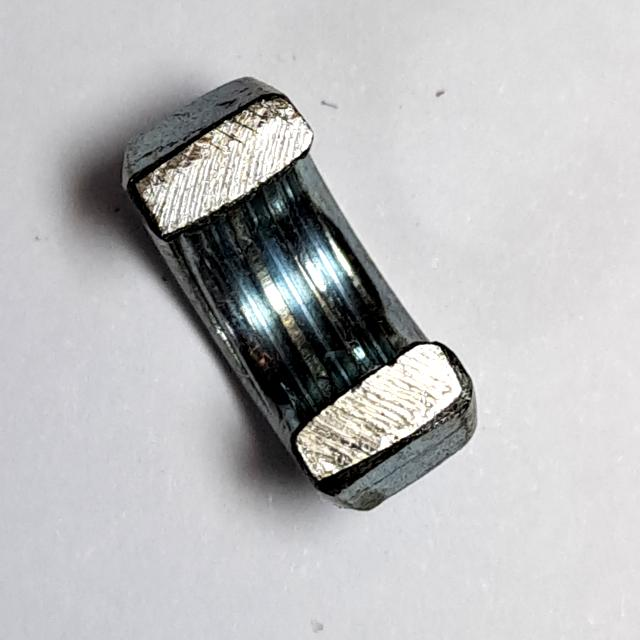Side-Fracture: (100, 64, 502, 530)
